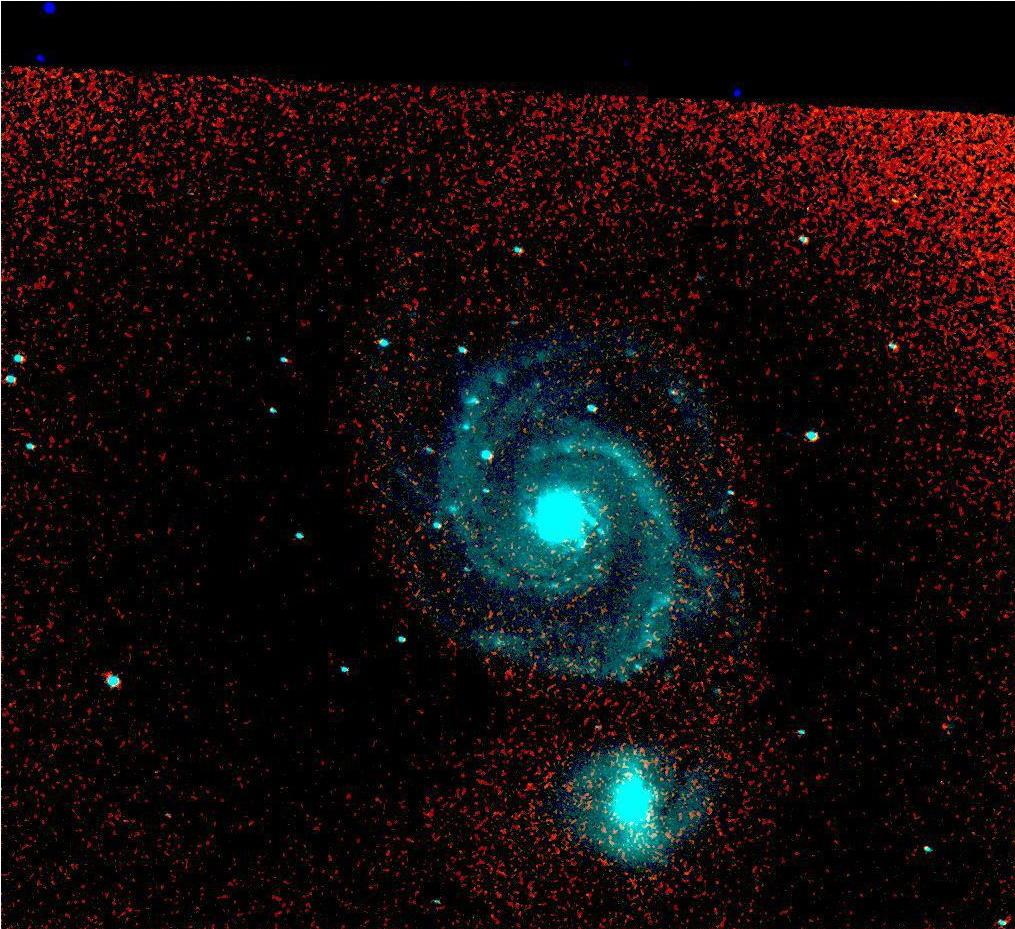star: (548, 528, 578, 558)
